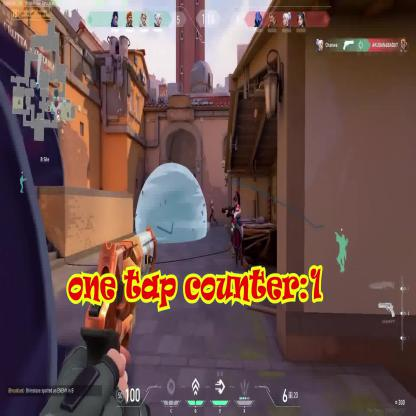enemy: (225, 190, 244, 267), (209, 198, 218, 226)
enemy_head: (232, 196, 238, 206), (211, 199, 213, 205)
